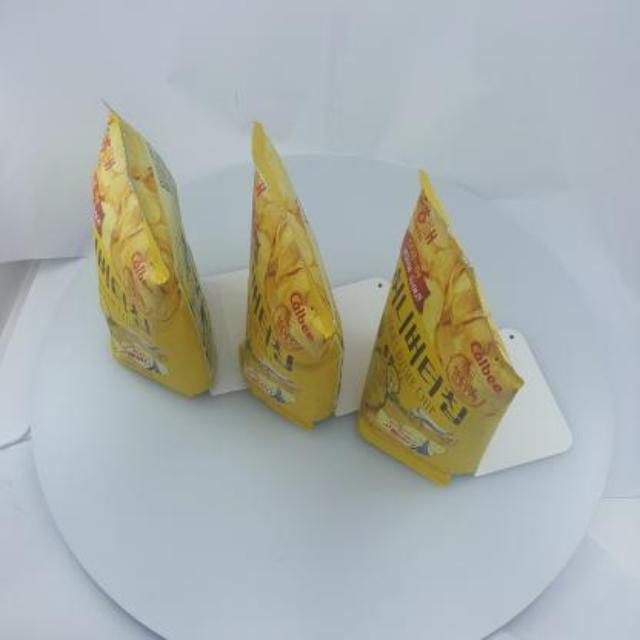snack_bag: (69, 84, 542, 510)
